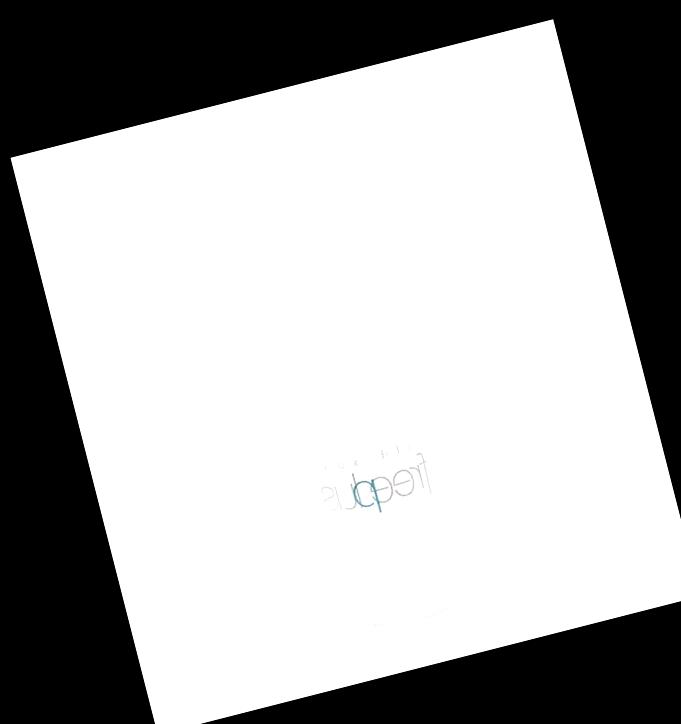cosmetic: (175, 98, 506, 650)
